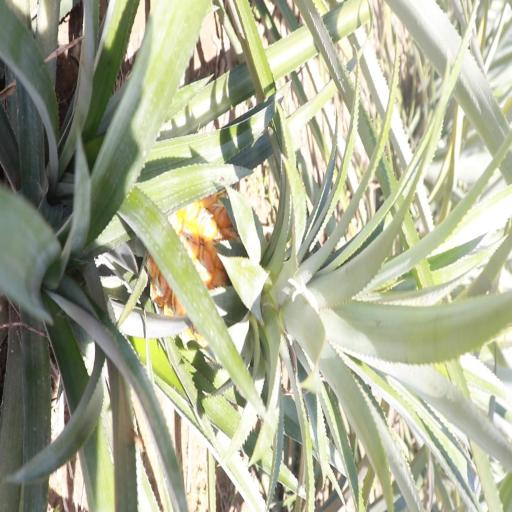Pineapple - v8 v1: (154, 190, 361, 365)
